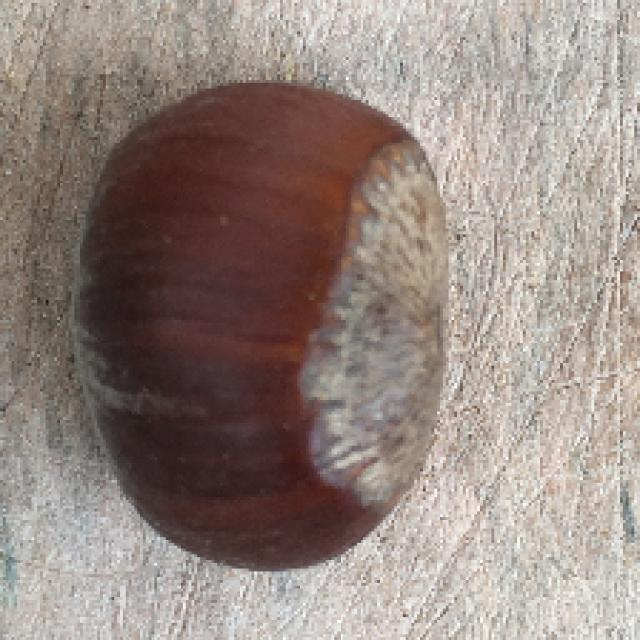qualityHazelnut: (64, 77, 465, 578)
